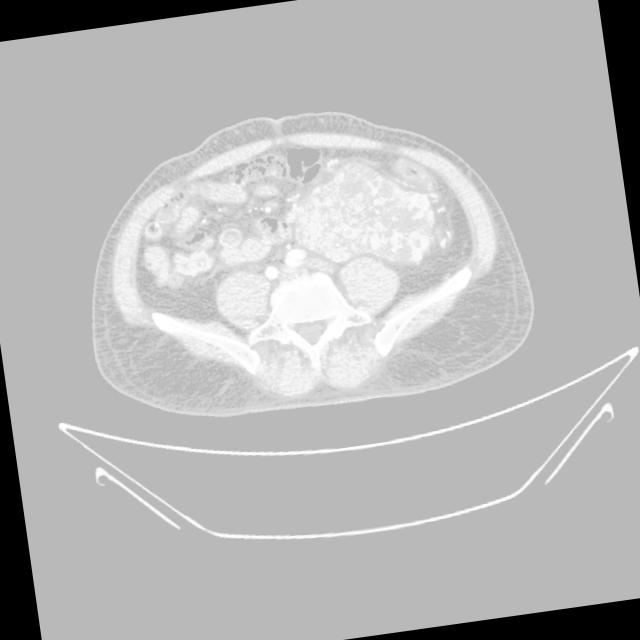TUMOR: (111, 93, 513, 371)
